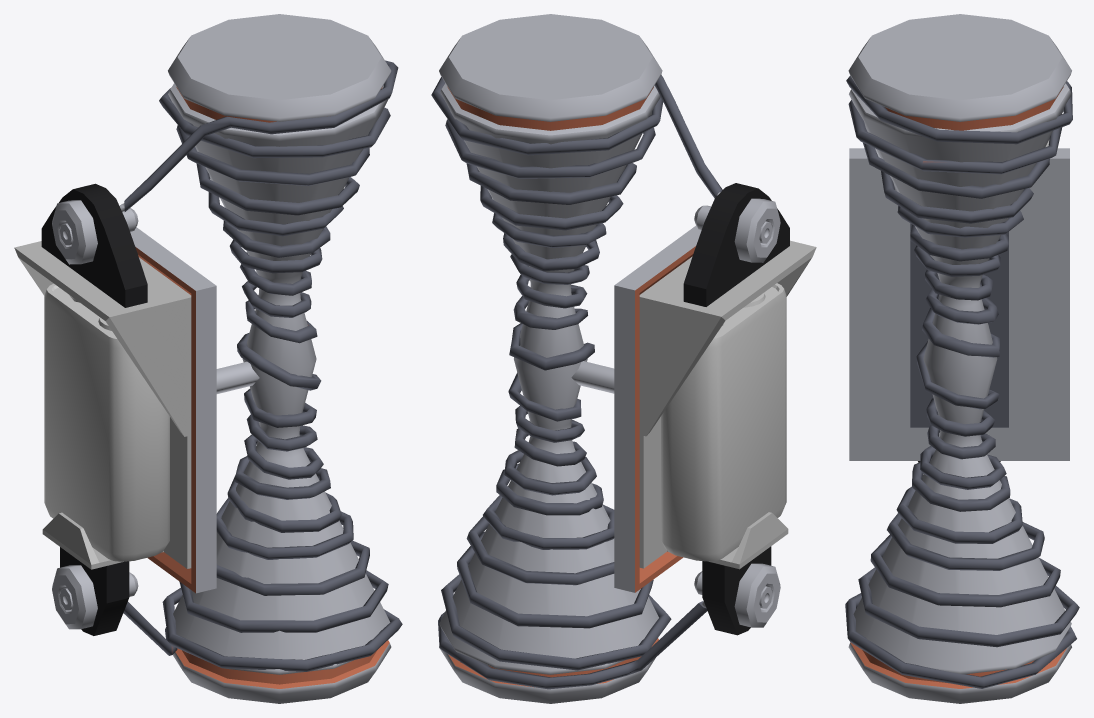
File: ElectroMagnet.fbx
3 renders of one model, left to right at view 1: azimuth 30°, elevation 25°; view 2: azimuth 150°, elevation 25°; view 3: azimuth 270°, elevation 25°, orthographic.
Visible parts, largest first — view 1: ElectroMagnet1, Battery, BatteryCase, Screws; view 2: ElectroMagnet1, Battery, BatteryCase, Screws; view 3: ElectroMagnet1.
Boxes of the visible parts, left/top/right/bottom form: ElectroMagnet1: left=119, top=14, right=402, bottom=703; Battery: left=44, top=283, right=169, bottom=561; BatteryCase: left=14, top=241, right=191, bottom=569; Screws: left=41, top=183, right=147, bottom=635; ElectroMagnet1: left=431, top=14, right=722, bottom=703; Battery: left=661, top=283, right=786, bottom=561; BatteryCase: left=639, top=240, right=816, bottom=569; Screws: left=683, top=183, right=789, bottom=635; ElectroMagnet1: left=845, top=14, right=1079, bottom=703.
Size of the model in its own units: 2.94 by 5.22 by 1.84.
